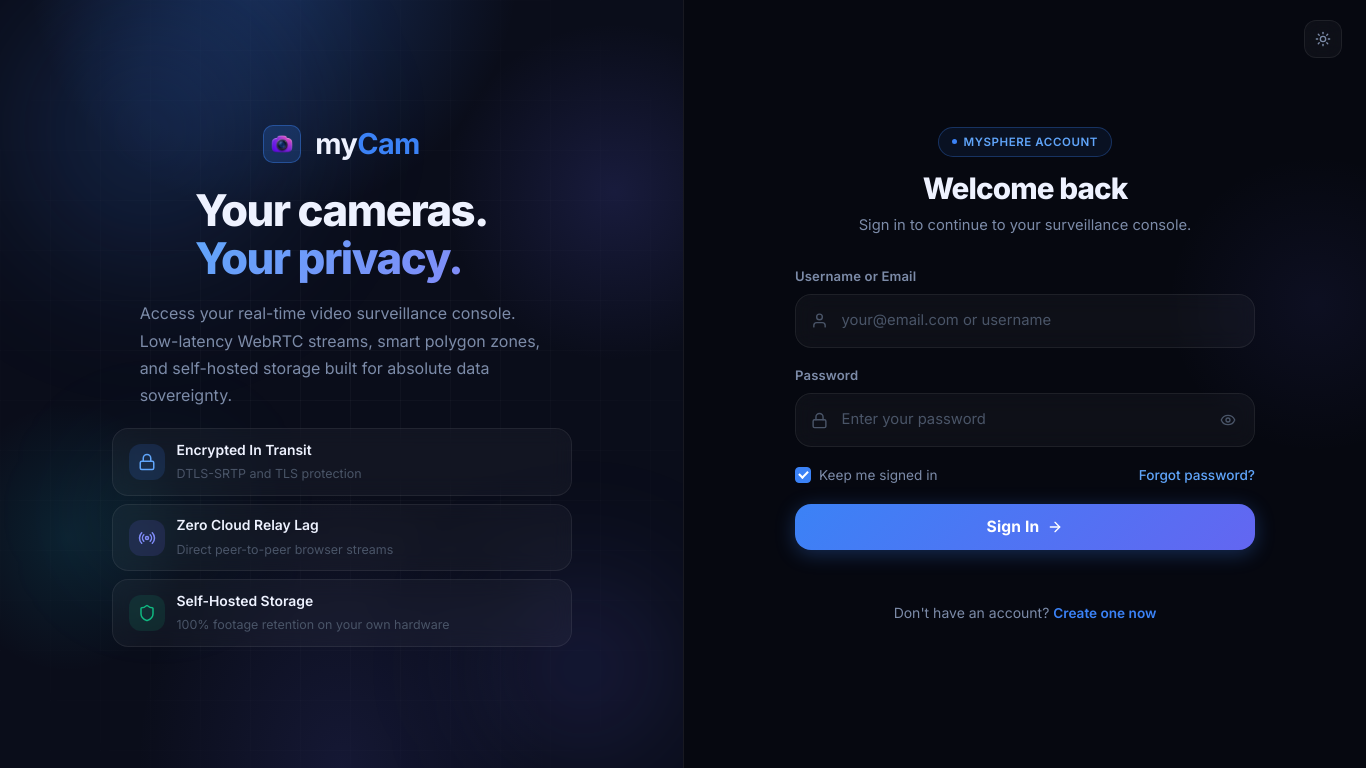
Login › requires both fields and sends no request when empty
The width and height of the screenshot is (1366, 768).
Click the button with aria-label "sign in to mycam".
click(1025, 527)  # box [795,504,1255,550]
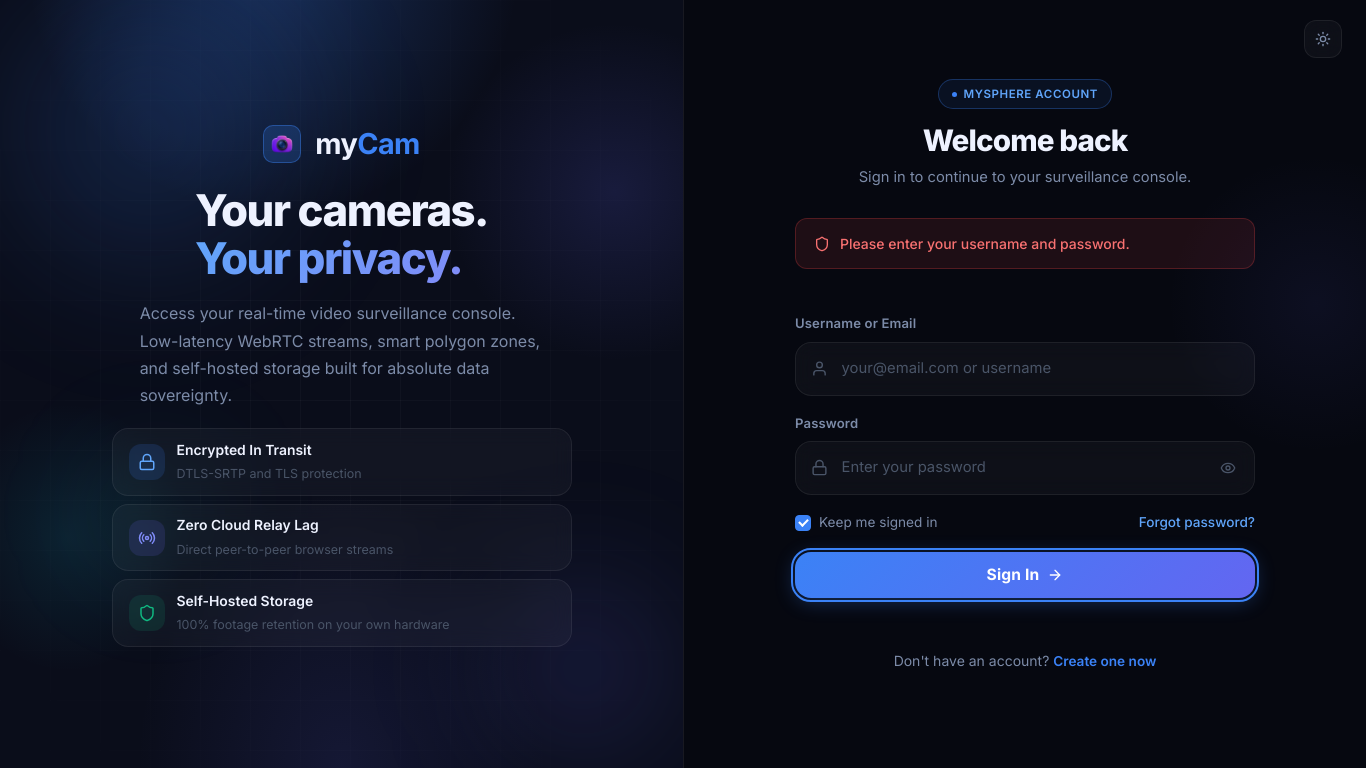
Result: the text "Please enter your username and password." is shown at [840,232,1130,255]
